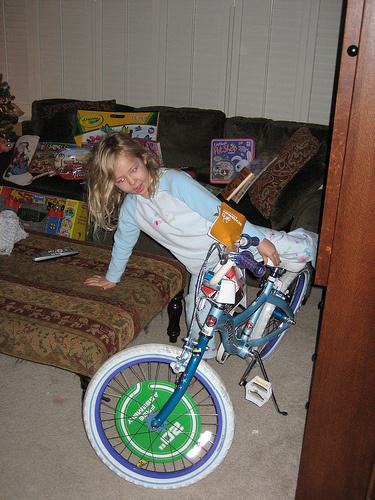car: (78, 212, 317, 493)
person: (82, 136, 322, 378)
sofa: (11, 98, 328, 241)
